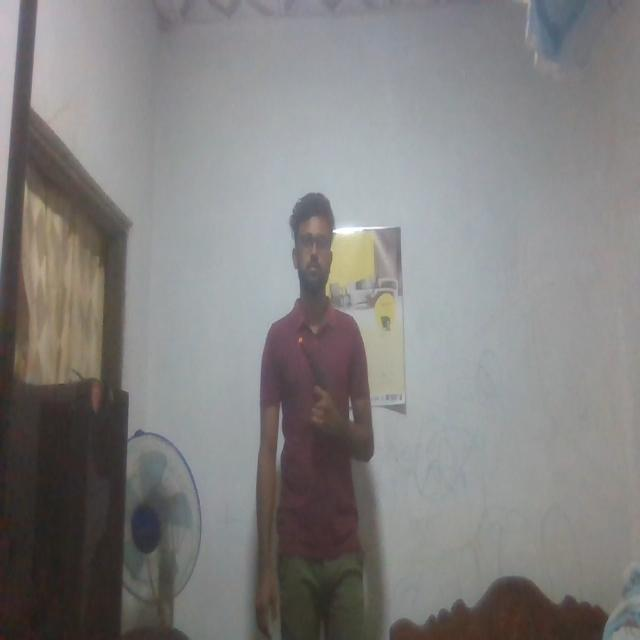Gun_Holder: (296, 334, 336, 425)
Person: (258, 189, 378, 640)
